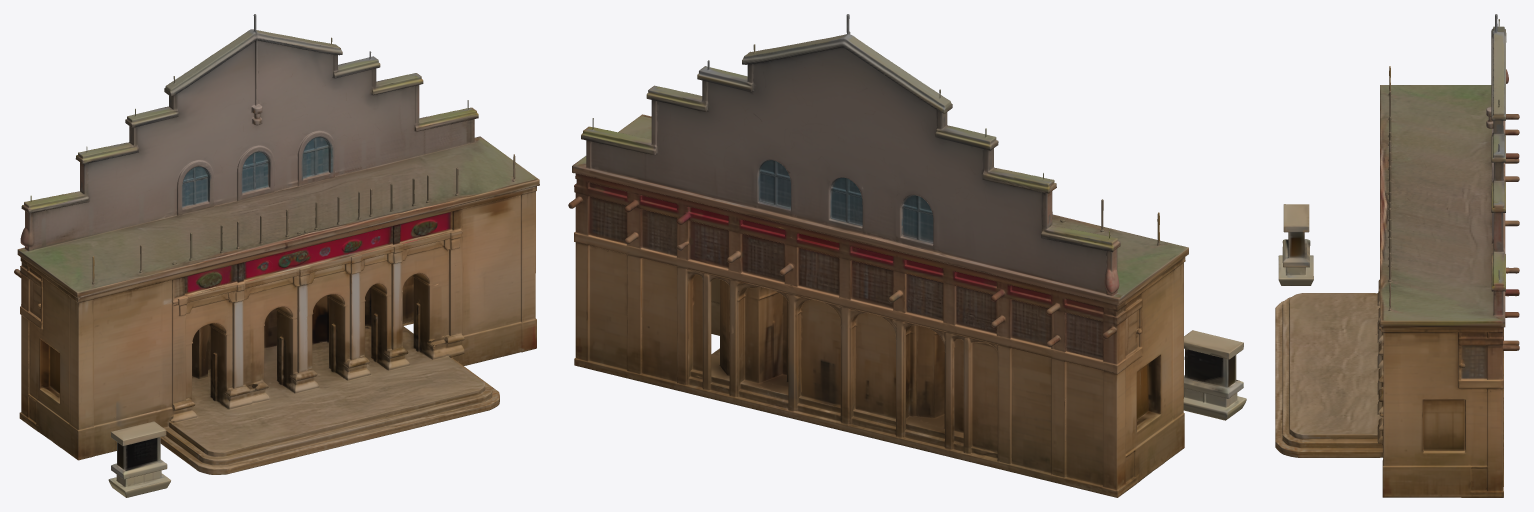
Rendered from 延安大礼堂.glb.
3 views of the same model, side by side, from view 1: azimuth 30°, elevation 25°; view 2: azimuth 150°, elevation 25°; view 3: azimuth 270°, elevation 25° (orthographic). The views are drawn at different scales.
Visible parts, largest first — view 1: texture_pbr_v128; view 2: texture_pbr_v128; view 3: texture_pbr_v128.
Boxes of the visible parts, x1,y1,x2,y2 form: texture_pbr_v128: (14, 14, 539, 497); texture_pbr_v128: (568, 14, 1246, 497); texture_pbr_v128: (1275, 14, 1519, 497).
Bounding box in the file's own units: 0.8017 × 0.5829 × 0.3493.
Materials: 1 (1 with a texture image).
